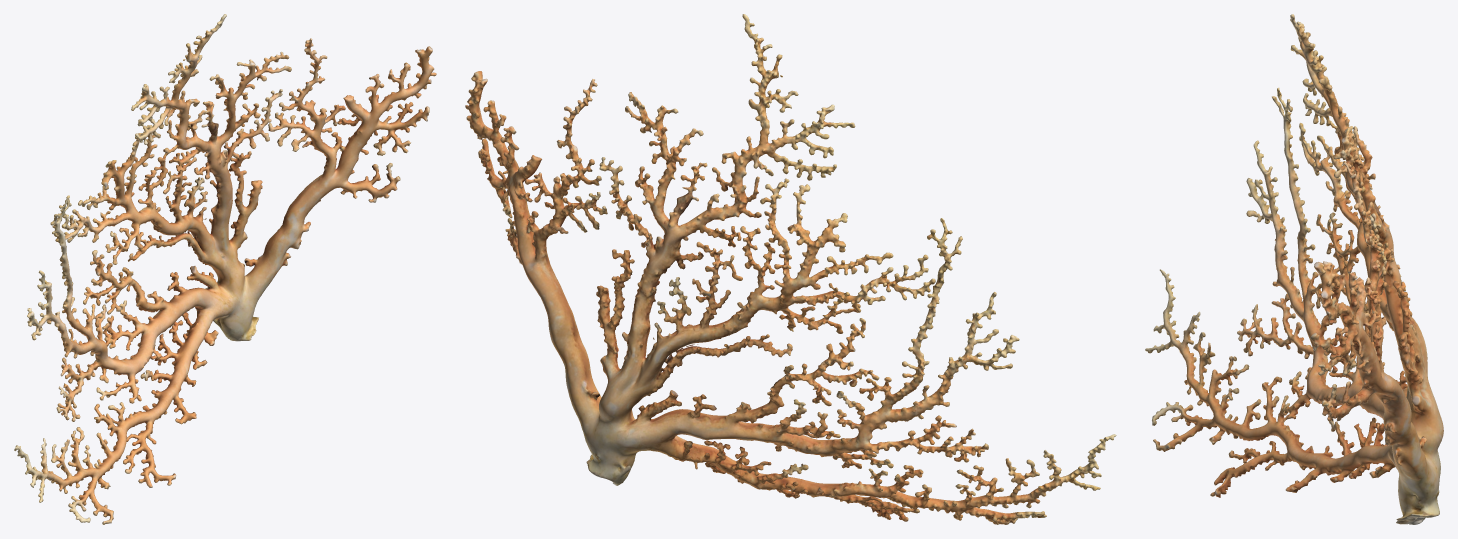
Rendered from red-coral.glb.
3 views of the same model, side by side, from view 1: azimuth 30°, elevation 25°; view 2: azimuth 150°, elevation 25°; view 3: azimuth 270°, elevation 25° (orthographic). The views are drawn at different scales.
Visible parts, largest first — view 1: red-coral; view 2: red-coral; view 3: red-coral.
Boxes of the visible parts, x1,y1,x2,y2 form: red-coral: (14,14,436,524); red-coral: (465,14,1116,524); red-coral: (1145,14,1443,524).
Bounding box in the file's own units: 2 × 1.69 × 0.8466.
Materials: 1 (1 with a texture image).
